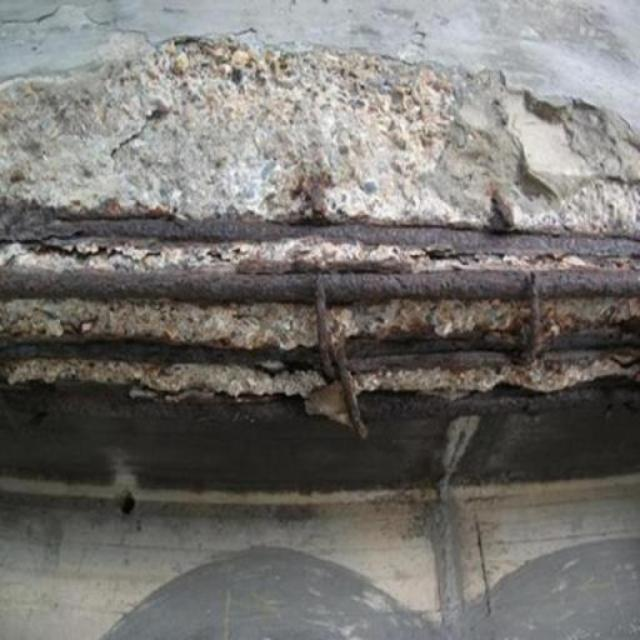D0w0: (2, 30, 637, 449)
